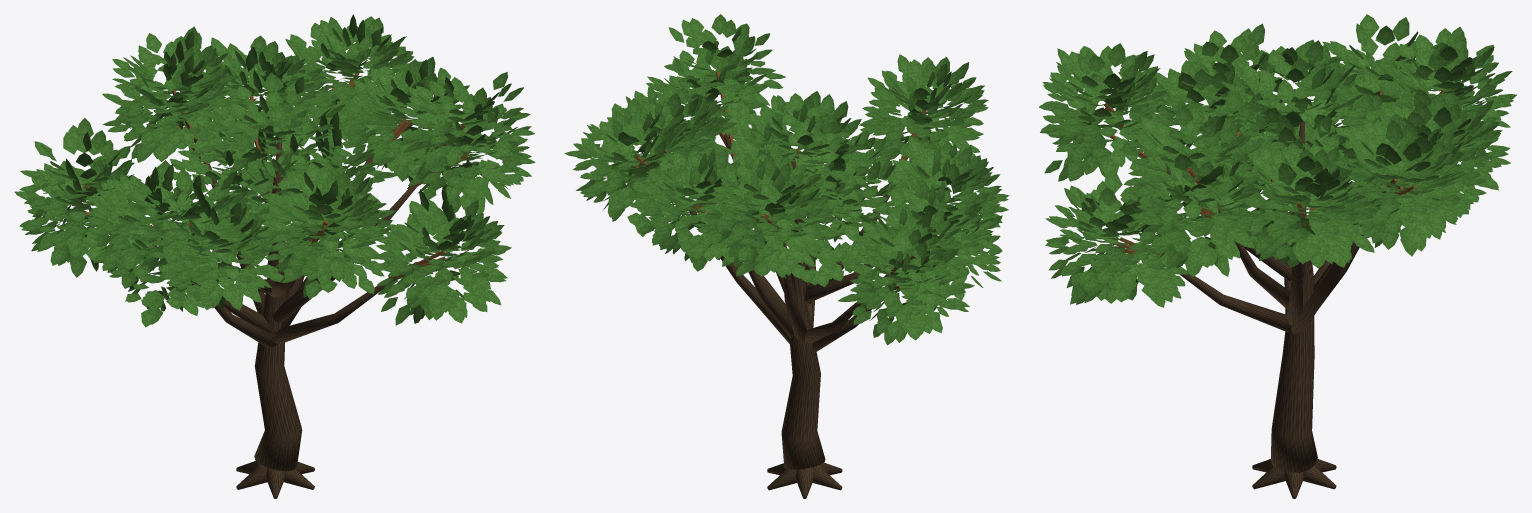
File: orchard_tree.glb
The picture shows the model from 3 angles, left to right: view 1: azimuth 30°, elevation 25°; view 2: azimuth 150°, elevation 25°; view 3: azimuth 270°, elevation 25°; orthographic projection. The views are drawn at different scales.
Visible parts, largest first — view 1: orchard_tree_Foliage.001, orchard_tree_Branches.001; view 2: orchard_tree_Foliage.001, orchard_tree_Branches.001; view 3: orchard_tree_Foliage.001, orchard_tree_Branches.001.
Boxes of the visible parts, <box> form: orchard_tree_Foliage.001: <box>14,14,535,327</box>; orchard_tree_Branches.001: <box>83,70,467,498</box>; orchard_tree_Foliage.001: <box>564,14,1009,345</box>; orchard_tree_Branches.001: <box>634,71,935,498</box>; orchard_tree_Foliage.001: <box>1039,14,1516,307</box>; orchard_tree_Branches.001: <box>1104,87,1444,498</box>.
Size of the model in its own units: 6 by 5.71 by 5.67.
2 materials, 2 textured.
